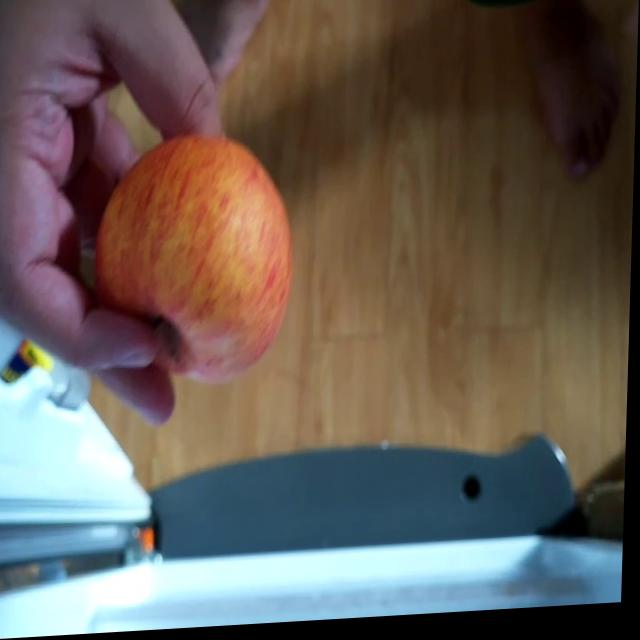apple: (86, 141, 291, 390)
